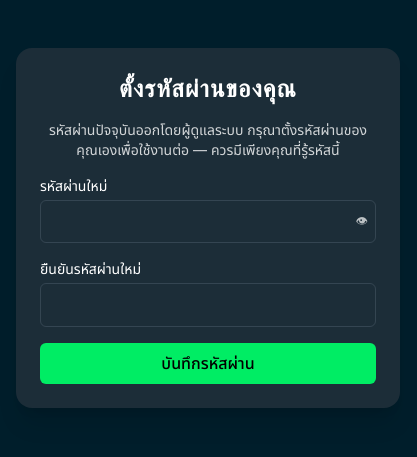
Test: ChangePasswordPage error reporting › reveals the current-password field when the server starts demanding it
Check: the heading "ตั้งรหัสผ่านของคุณ" is shown, box [119,73,297,103]
Type "BrandNewPass1" into the password field labelled "รหัสผ่านใหม่" at (208, 221), box [40,200,376,243]
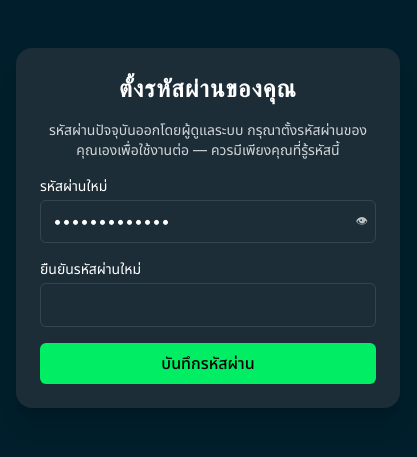
Type "BrandNewPass1" into the password field labelled "ยืนยันรหัสผ่านใหม่" at (208, 305), box [40,283,376,327]
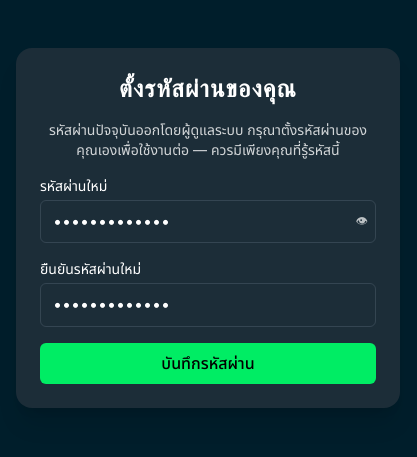
Click the button "บันทึกรหัสผ่าน" at (208, 364), box [40,343,376,384]
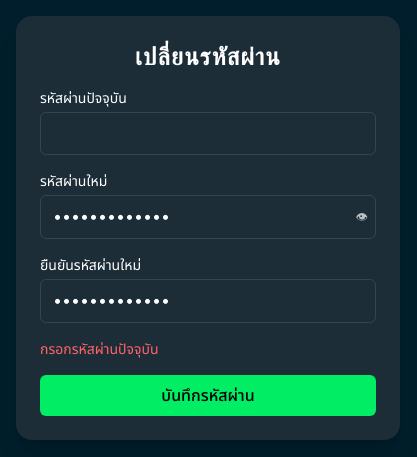
Check: the password field labelled "รหัสผ่านปัจจุบัน" is shown, box [40,112,376,155]
Check: the message reads "กรอกรหัสผ่านปัจจุบัน", box [40,340,158,357]
